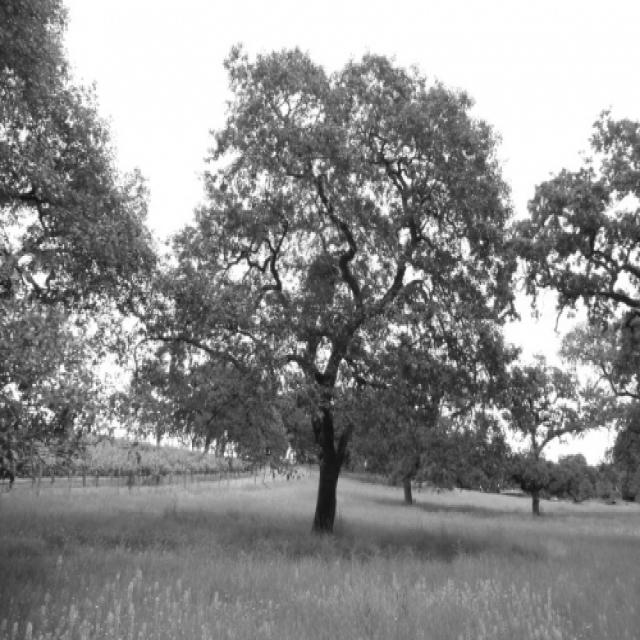Quercus kelloggii: (162, 40, 518, 546)
